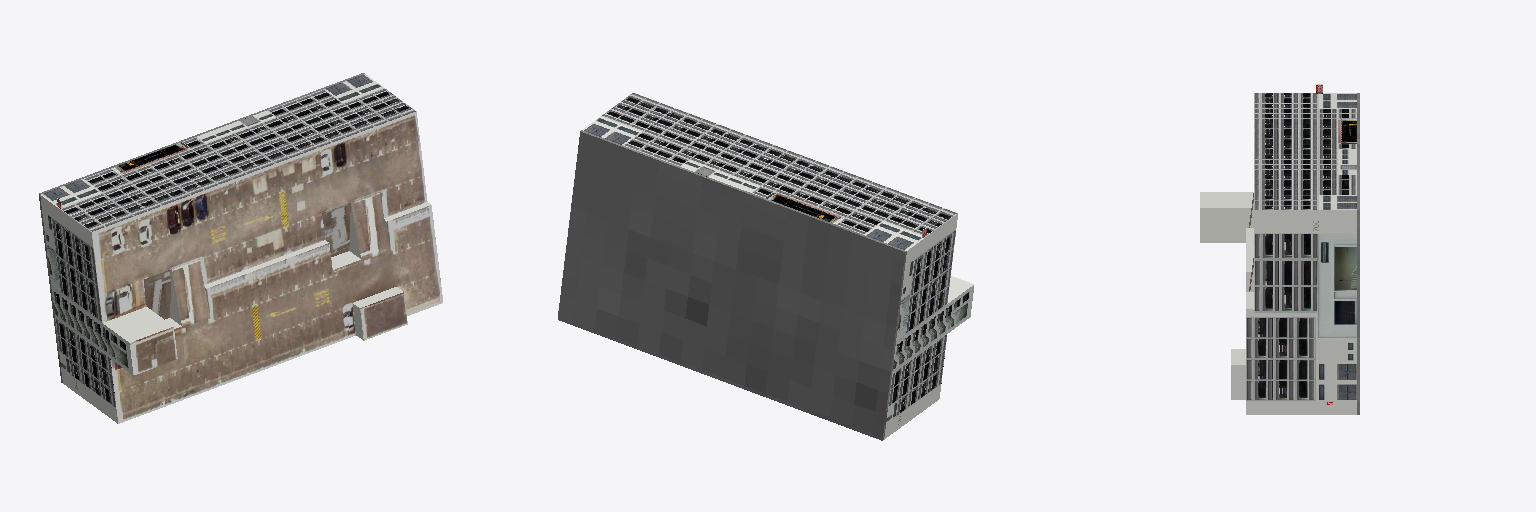
3 renders of one model, left to right at view 1: azimuth 30°, elevation 25°; view 2: azimuth 150°, elevation 25°; view 3: azimuth 270°, elevation 25°, orthographic.
Visible parts, largest first — view 1: polygon.849; view 2: polygon.849; view 3: polygon.849.
Boxes of the visible parts, x1=… form: polygon.849: x1=39, y1=73, x2=442, y2=423; polygon.849: x1=558, y1=93, x2=973, y2=440; polygon.849: x1=1200, y1=84, x2=1359, y2=414.
Size of the model in its own units: 63.54 by 40.36 by 24.84.
1 materials, 1 textured.